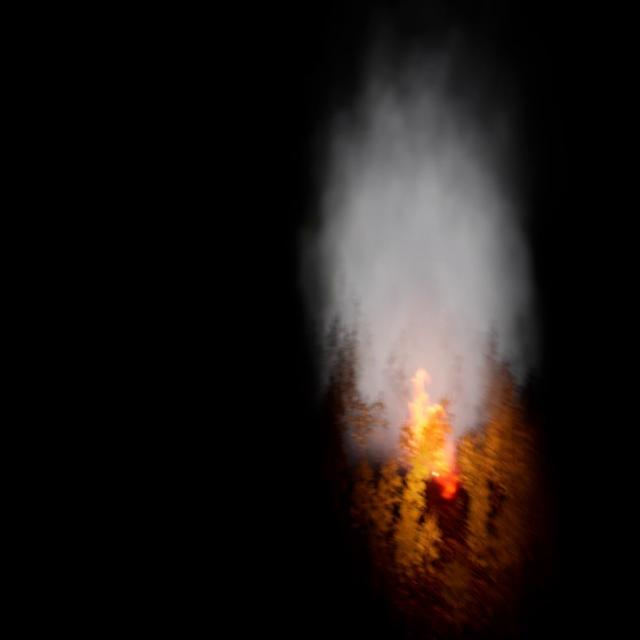fire: (405, 366, 461, 498)
smoke: (295, 12, 540, 460)
